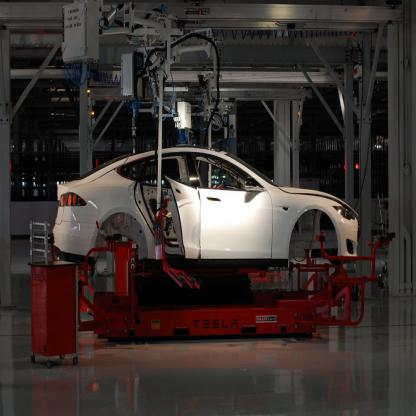Car: (52, 142, 361, 270)
